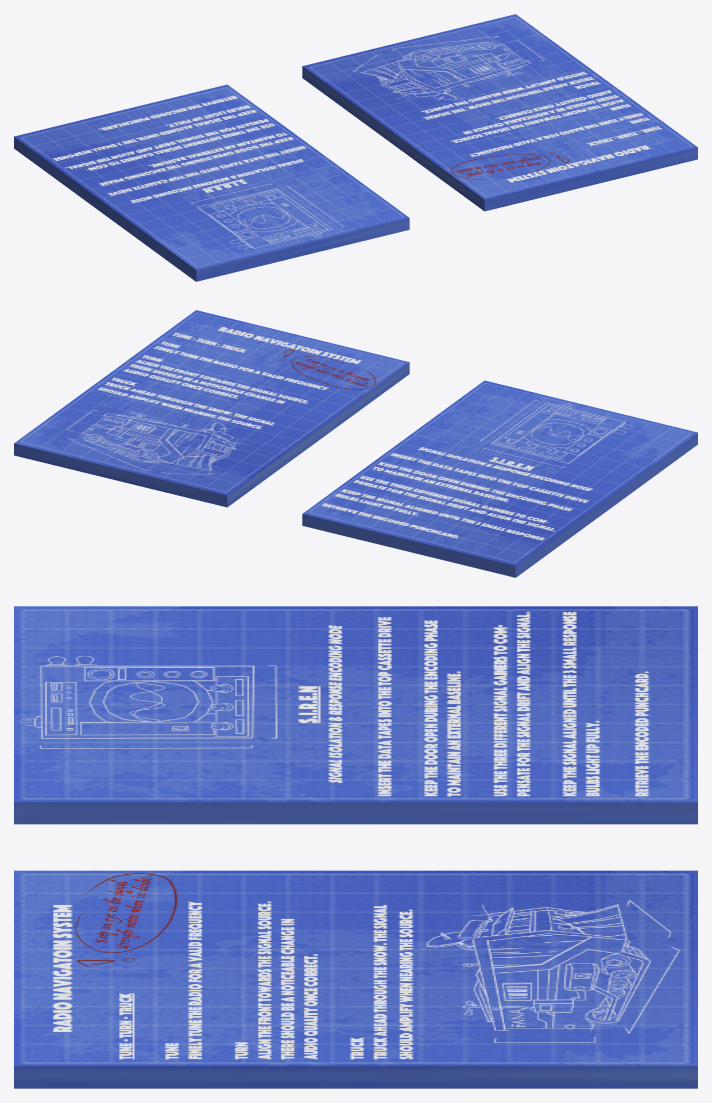
The model's file is Blueprints.fbx.
The picture shows the model from 3 angles, top to bottom: view 1: azimuth 30°, elevation 25°; view 2: azimuth 150°, elevation 25°; view 3: azimuth 270°, elevation 25°; orthographic projection. The views are drawn at different scales.
Visible parts, largest first — view 1: FanaOnboard, SirenOnboard; view 2: FanaOnboard, SirenOnboard; view 3: FanaOnboard, SirenOnboard.
Boxes of the visible parts, x1,y1,x2,y2 form: FanaOnboard: (302, 14, 697, 211); SirenOnboard: (14, 84, 409, 281); FanaOnboard: (14, 310, 409, 507); SirenOnboard: (302, 380, 697, 577); FanaOnboard: (14, 870, 697, 1088); SirenOnboard: (14, 606, 697, 824).
Bounding box in the file's own units: 64.33 × 1.47 × 40.46.
Materials: 2 (2 with a texture image).
